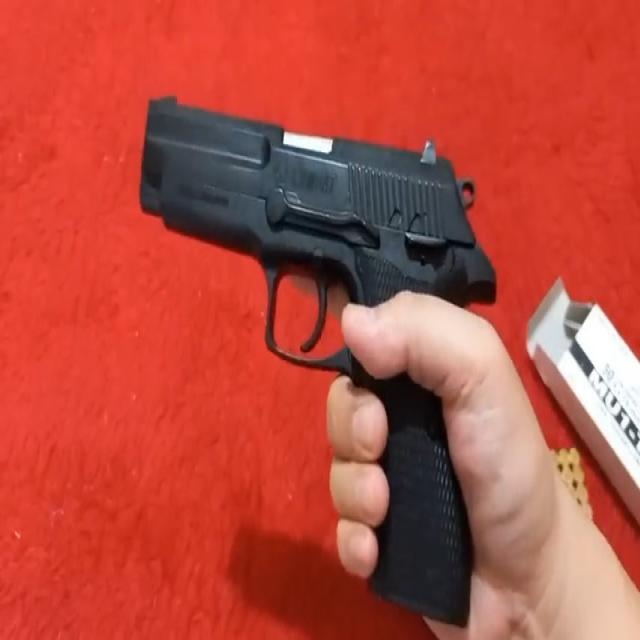handgun: (134, 82, 477, 312)
